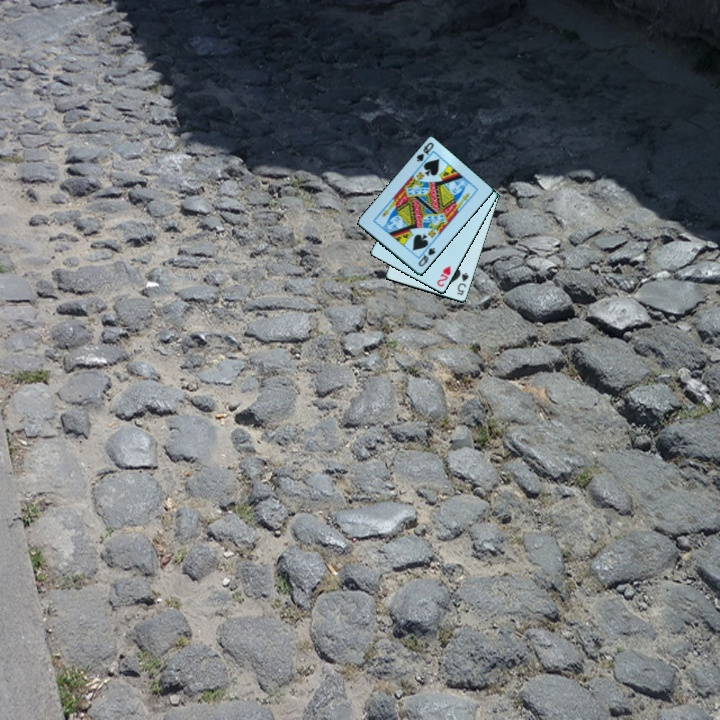2h: (434, 263, 454, 290)
5s: (453, 269, 472, 298)
Qs: (413, 139, 437, 165), (415, 245, 438, 270)
